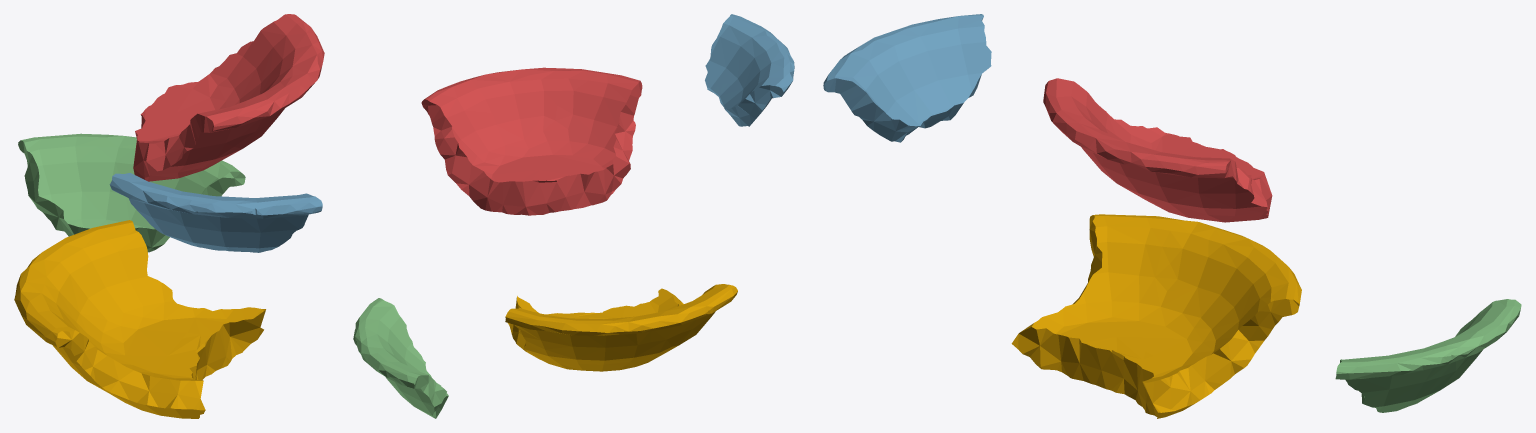
The model's file is mode_3_4pcs_transformed.glb.
3 views of the same model, side by side, from view 1: azimuth 30°, elevation 25°; view 2: azimuth 150°, elevation 25°; view 3: azimuth 270°, elevation 25° (orthographic). The views are drawn at different scales.
Visible parts, largest first — view 1: piece_0.obj, piece_1.obj, piece_3.obj, piece_2.obj; view 2: piece_1.obj, piece_0.obj, piece_2.obj, piece_3.obj; view 3: piece_0.obj, piece_1.obj, piece_2.obj, piece_3.obj.
Boxes of the visible parts, left/top/right/bottom form: piece_0.obj: left=14, top=220, right=265, bottom=418; piece_1.obj: left=133, top=14, right=324, bottom=181; piece_3.obj: left=18, top=133, right=245, bottom=252; piece_2.obj: left=109, top=173, right=322, bottom=252; piece_1.obj: left=421, top=67, right=642, bottom=215; piece_0.obj: left=505, top=284, right=737, bottom=371; piece_2.obj: left=705, top=14, right=794, bottom=126; piece_3.obj: left=353, top=298, right=448, bottom=418; piece_0.obj: left=1011, top=214, right=1301, bottom=418; piece_1.obj: left=1043, top=78, right=1272, bottom=222; piece_2.obj: left=823, top=14, right=991, bottom=142; piece_3.obj: left=1335, top=299, right=1521, bottom=412.
Bounding box in the file's own units: 0.9996 × 0.9059 × 1.89.
